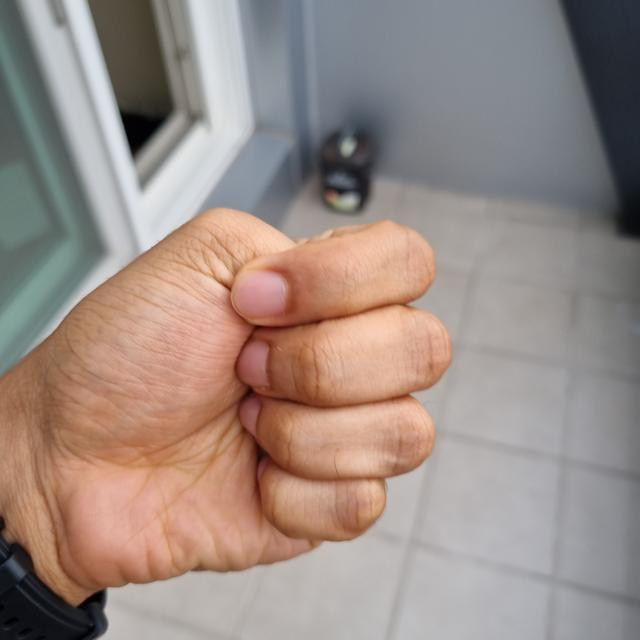Rock: (0, 210, 448, 590)
